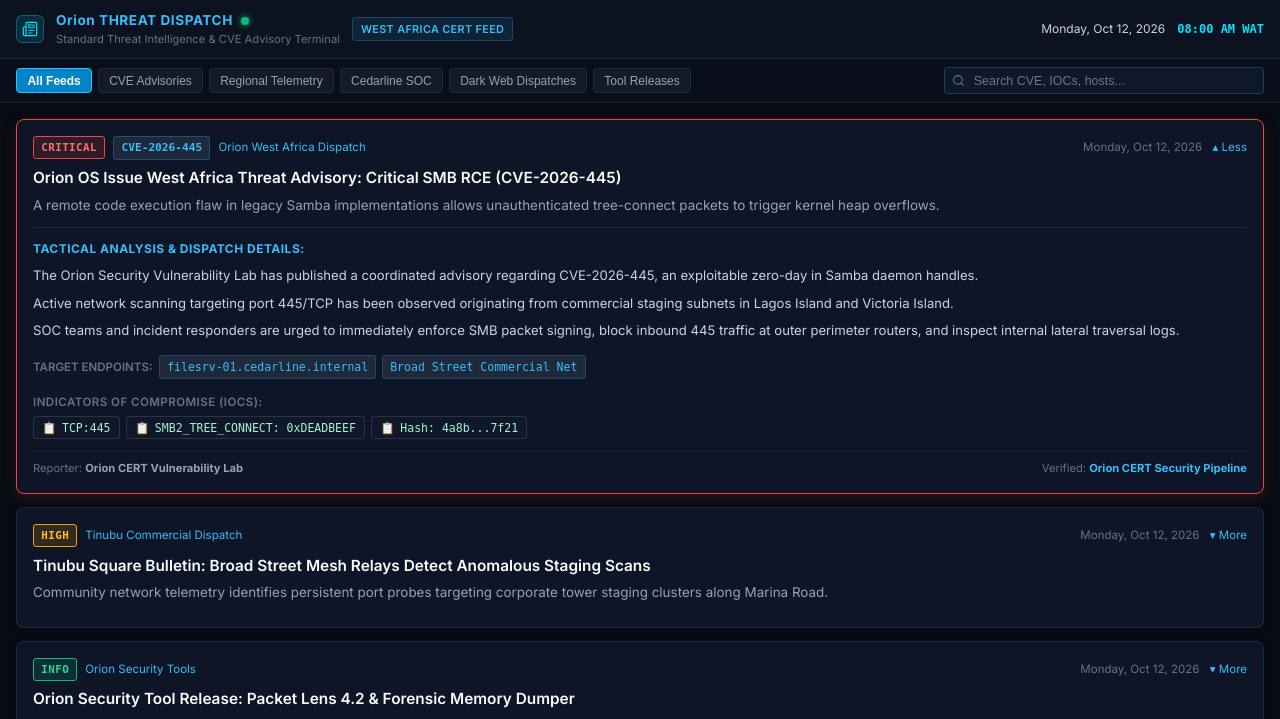
it: SecurityNewsApp › filters articles by category when category pills are clicked
// Click 'Tool Releases'
Click the button "Tool Releases" at (642,81), box left=593, top=68, right=691, bottom=93
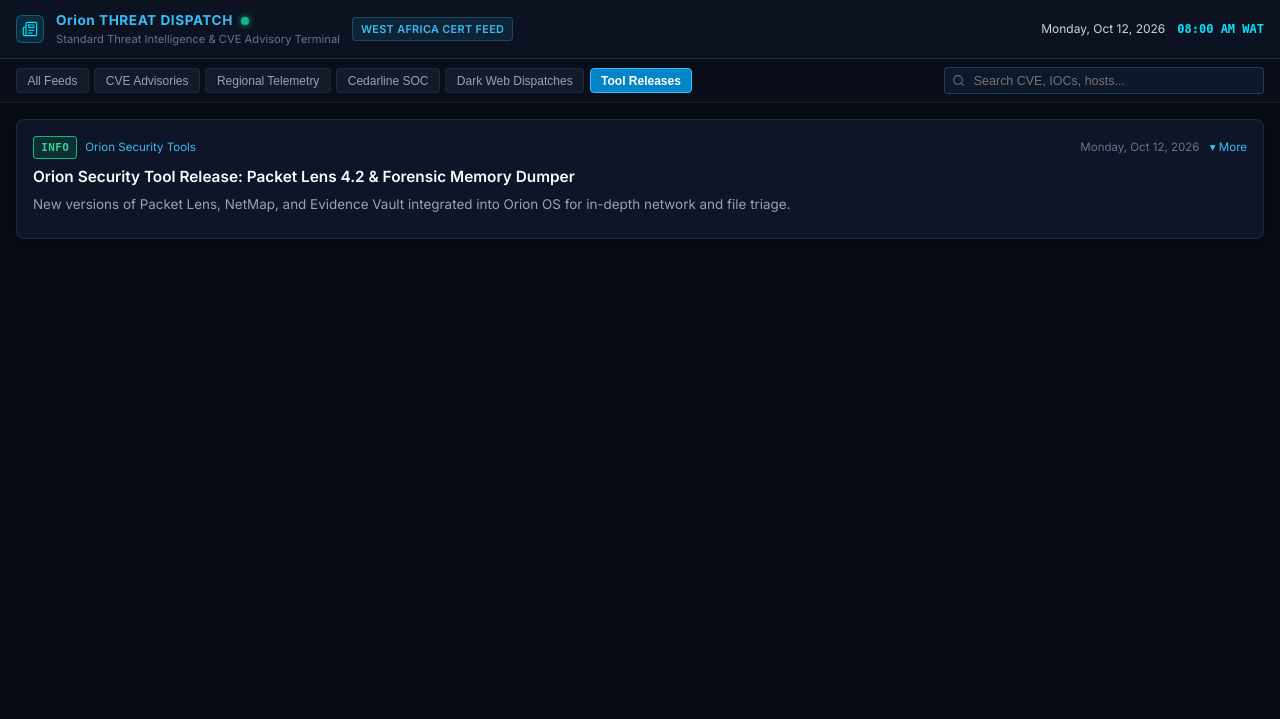
expect the heading "Orion Security Tool Release: Packet Lens 4.2" is shown: met, box left=33, top=167, right=575, bottom=186
expect the heading "Critical SMB RCE (CVE-2026-445)" is gone: met
// Click 'All Feeds'
Click the button "All Feeds" at (52,81), box left=16, top=68, right=89, bottom=93
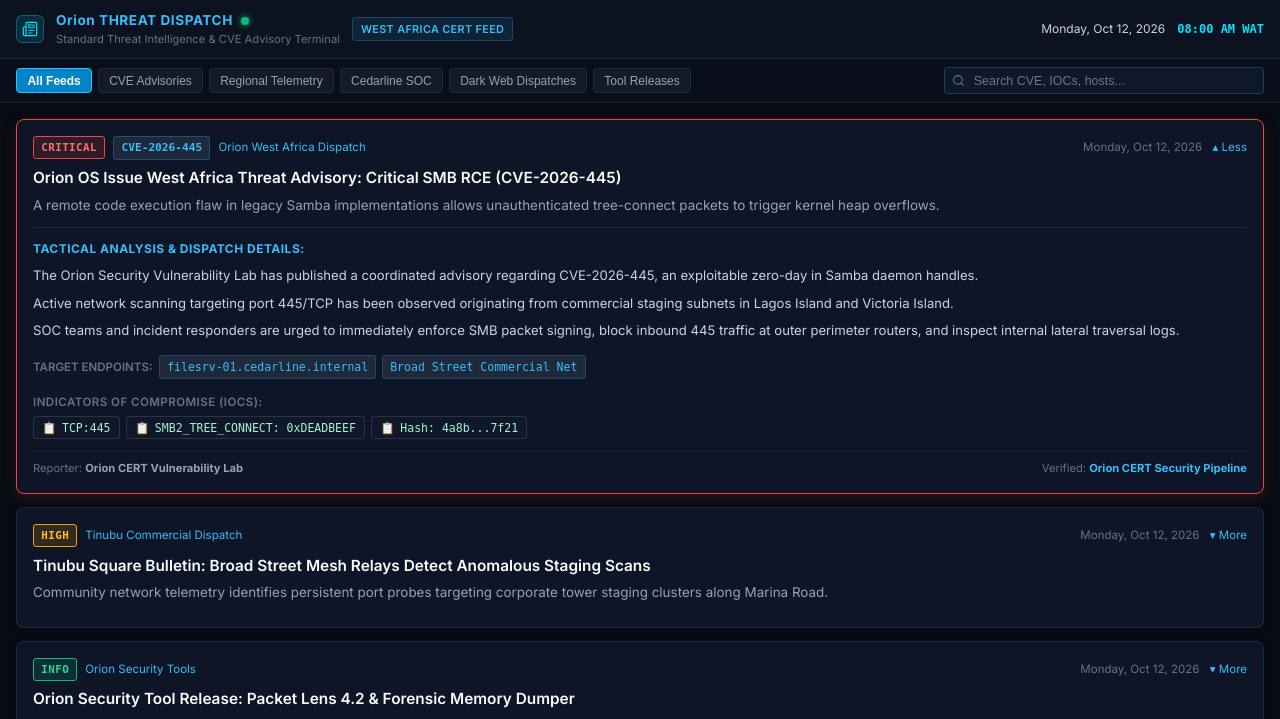
expect the heading "Critical SMB RCE (CVE-2026-445)" is shown: met, box left=33, top=168, right=621, bottom=187
